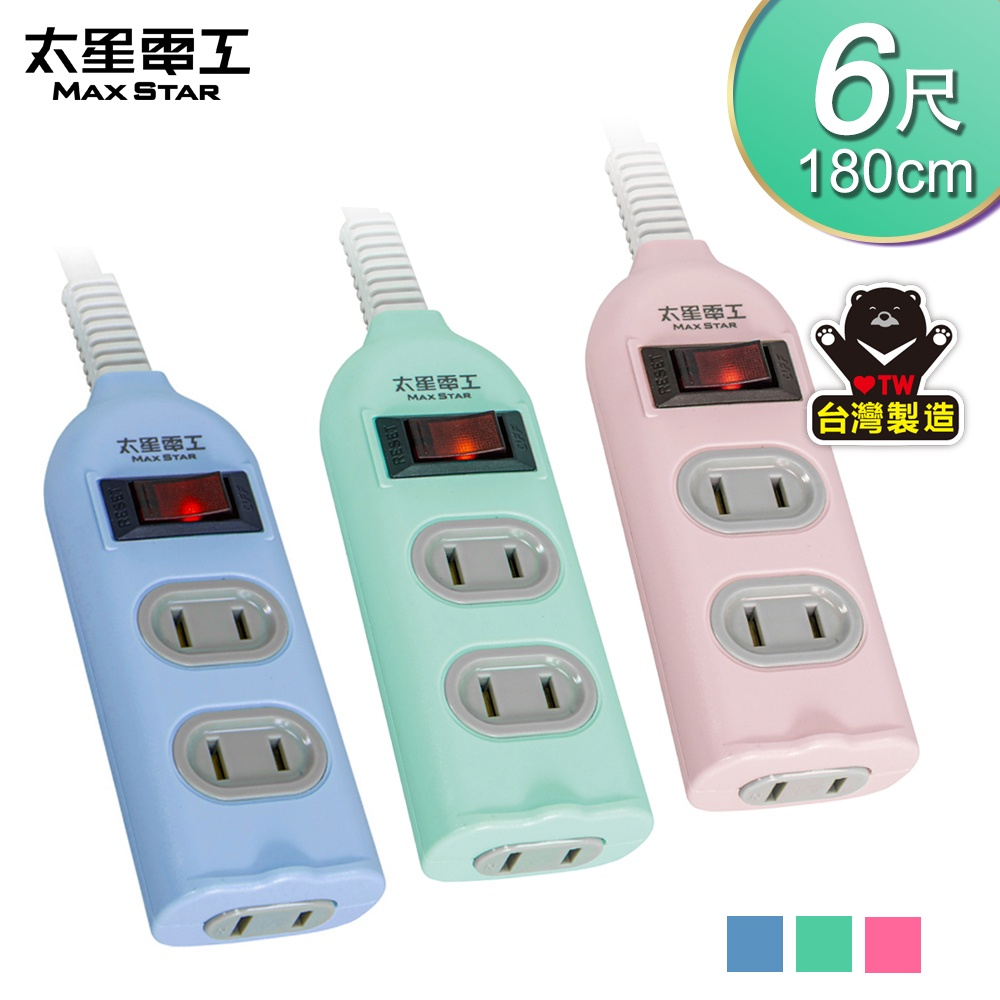socket: (44, 268, 388, 949), (584, 154, 922, 812), (334, 213, 655, 882)
